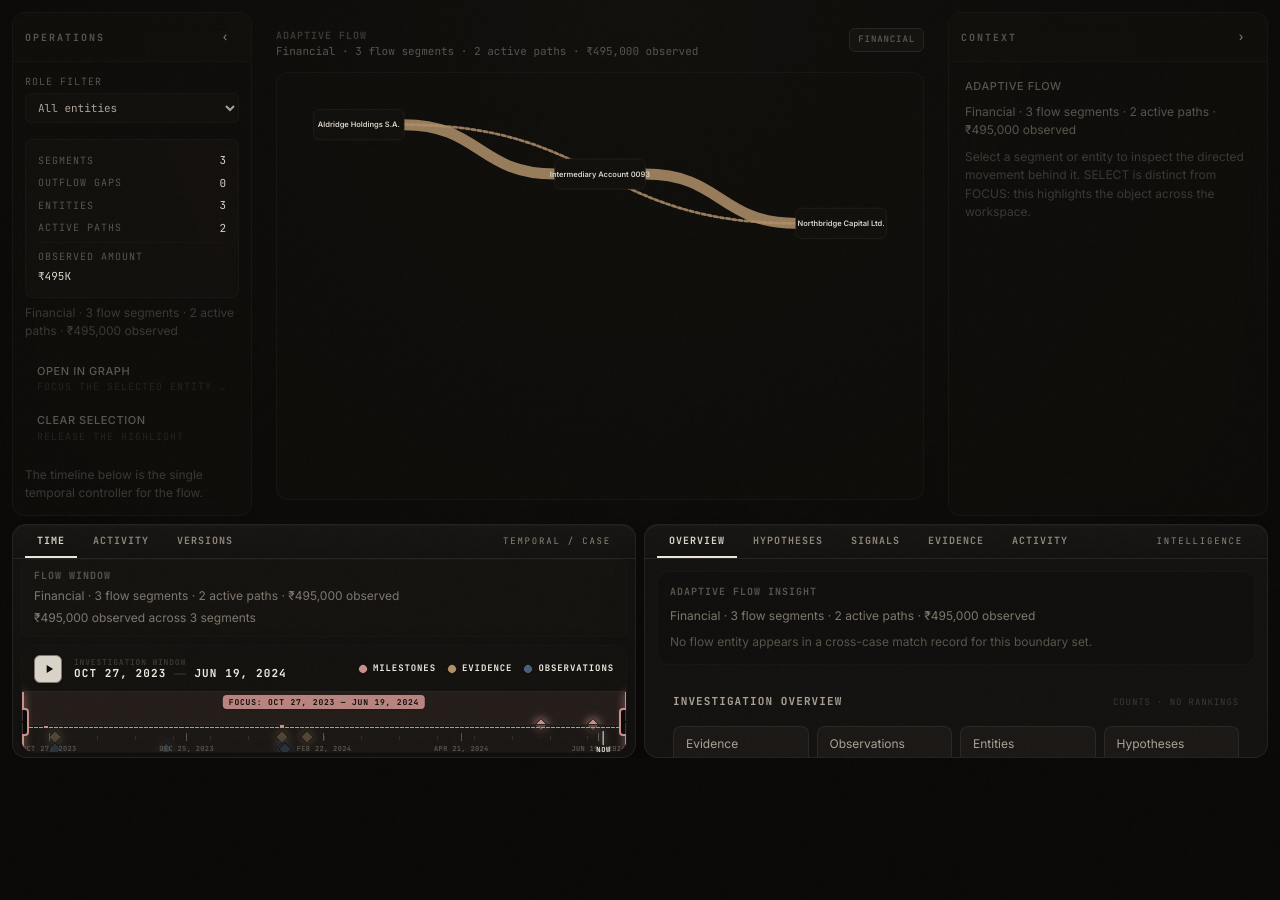
F-PR8 — the five-zone shell serves the Adaptive Flow › the role filter reshapes the rail overview (role is never fabricated)
The width and height of the screenshot is (1280, 900).
Expected: the text with test id "flow-summary" shows "3 flow segments", x1=276 y1=44 x2=698 y2=58
Select "Sources" in the dropdown with test id "flow-role-filter-select": (132, 108) x1=25 y1=93 x2=239 y2=123
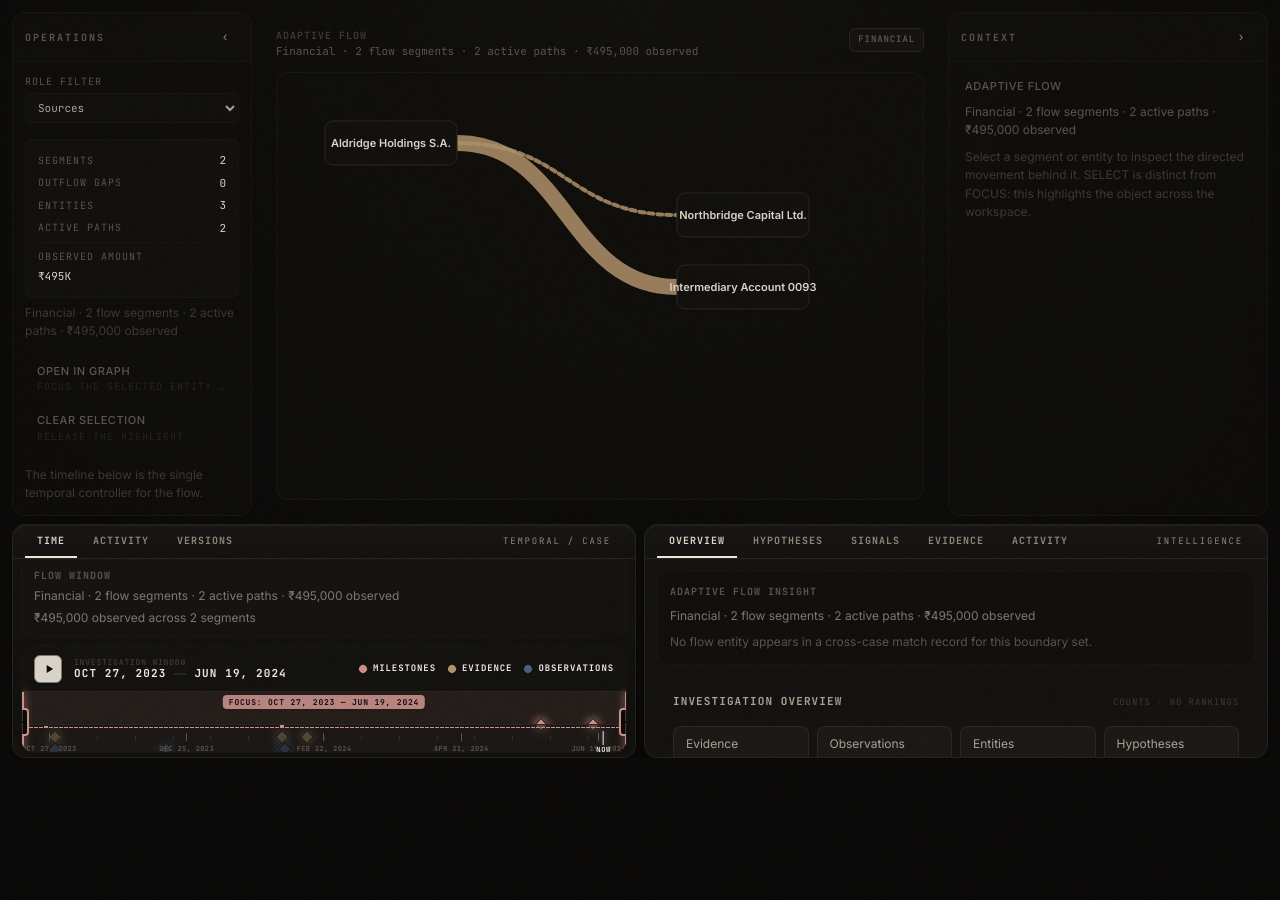
Now the text with test id "flow-summary" shows "Financial · 2 flow segments", box x1=276 y1=44 x2=698 y2=58
